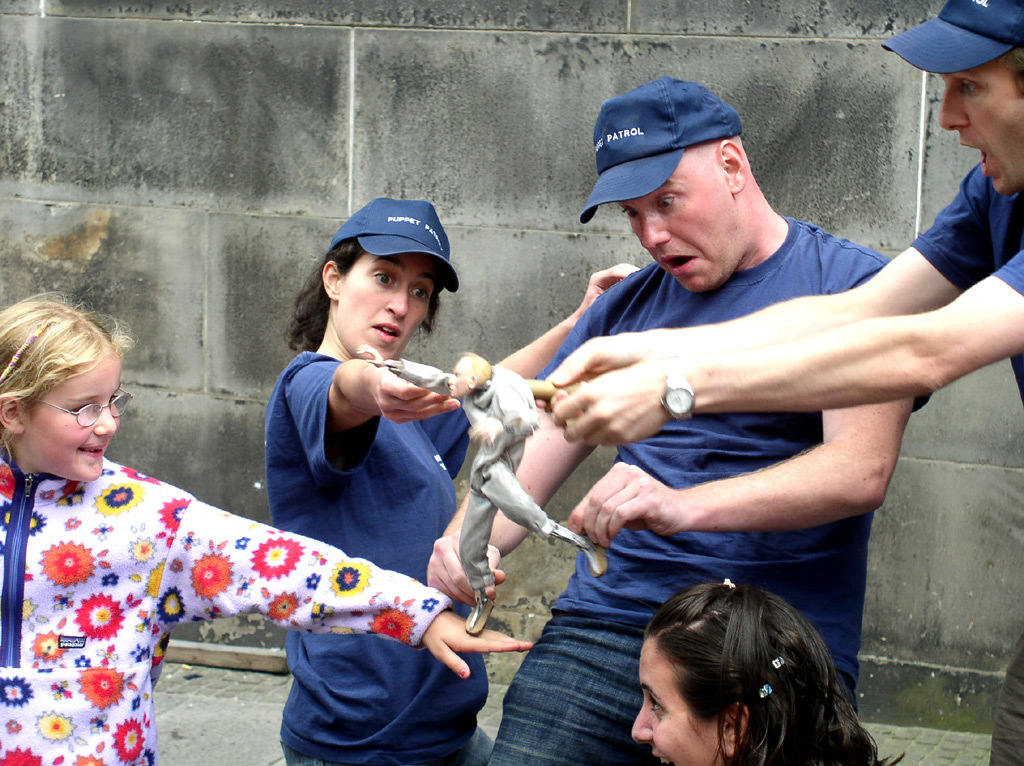Human_hand: (537, 325, 667, 426), (549, 357, 671, 453), (578, 476, 702, 555), (424, 603, 535, 681), (363, 360, 463, 426), (423, 532, 509, 607), (576, 259, 646, 316), (463, 416, 499, 446), (353, 344, 386, 367)
